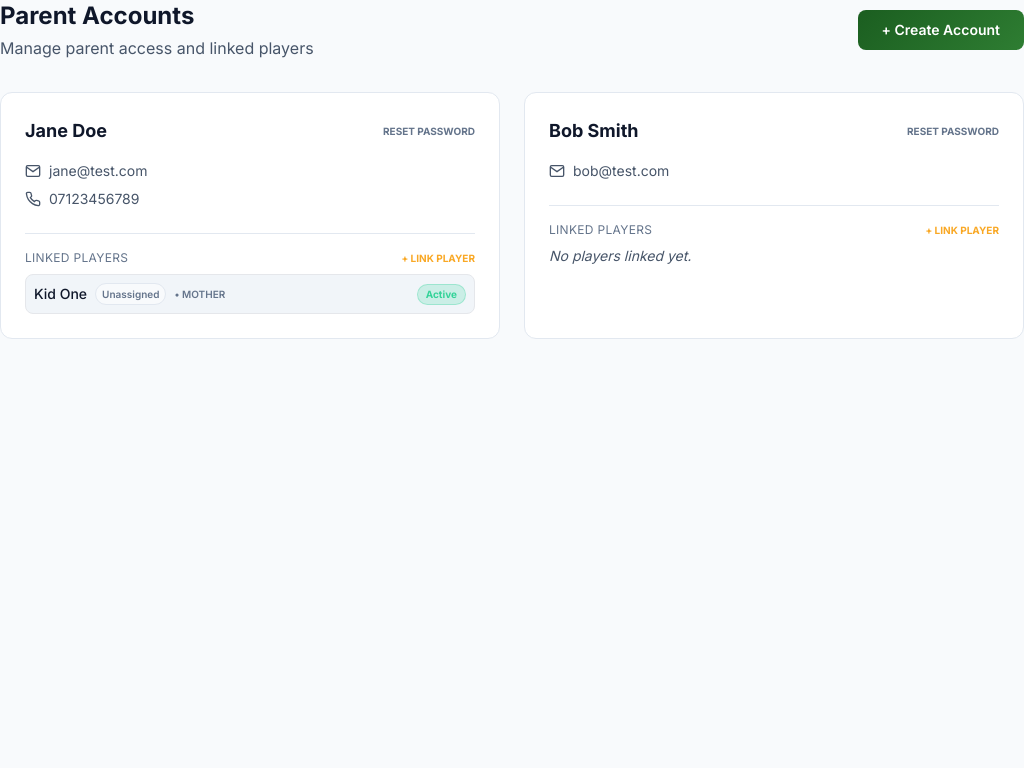
Test: Admin Parents Page › opens create account modal
The width and height of the screenshot is (1024, 768).
Click the button "+ Create Account": (941, 30) [858,10,1023,50]
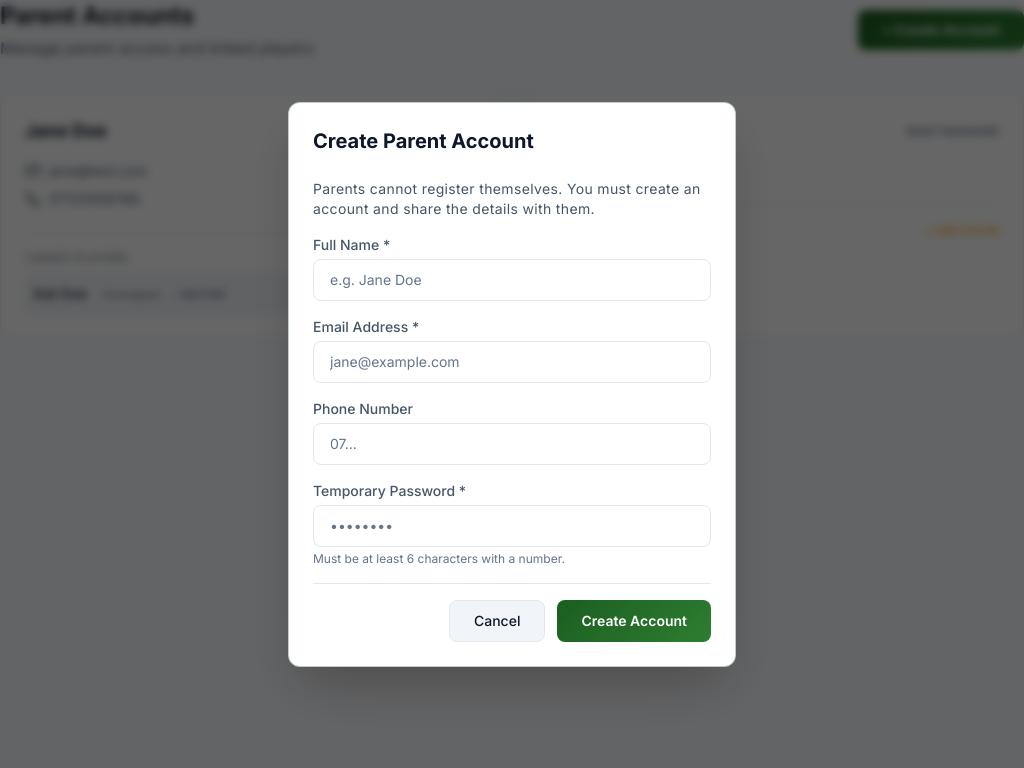
Now the text "Create Parent Account" is shown, box [313,128,534,152]
